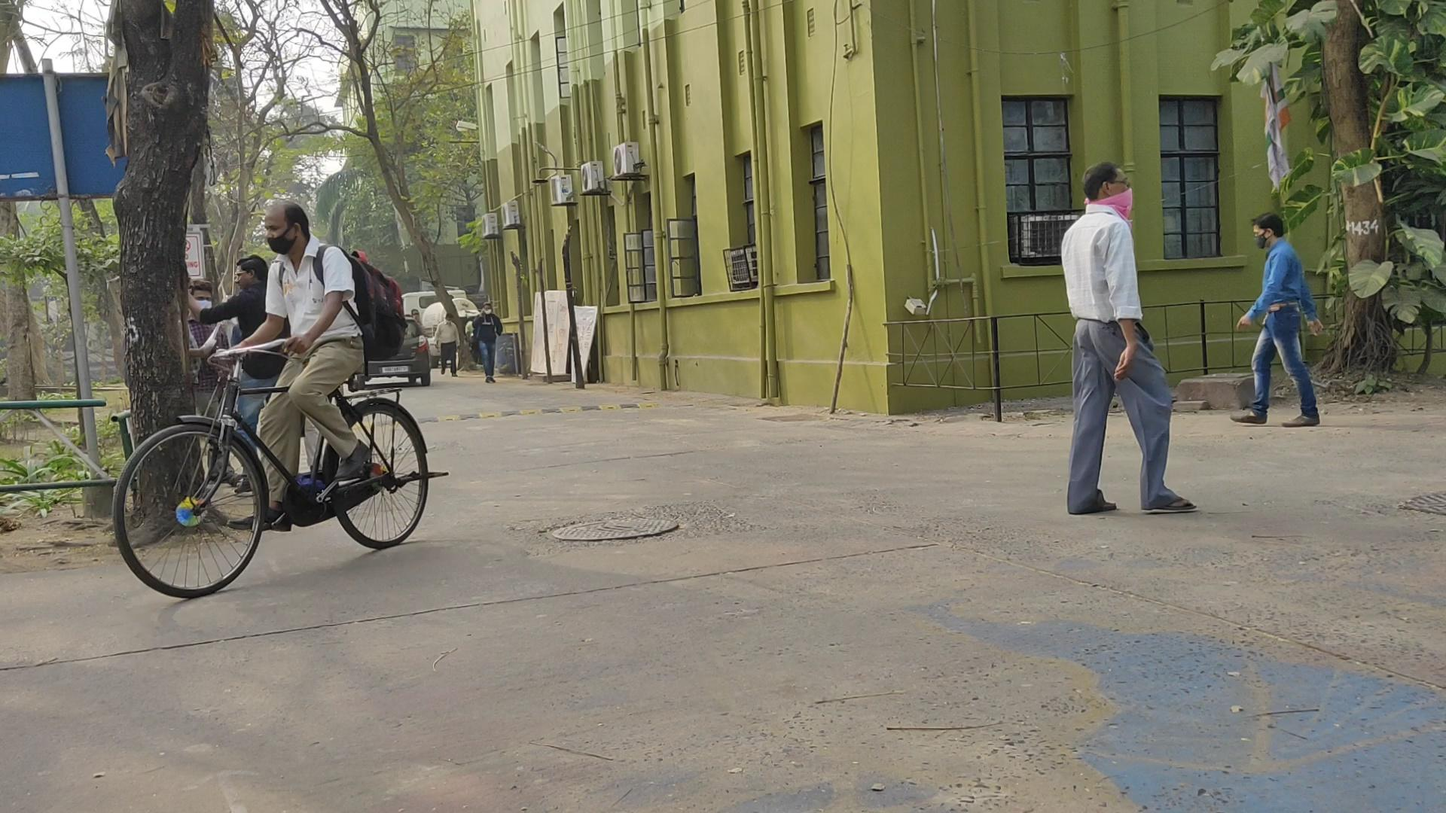bike: (112, 200, 450, 599)
